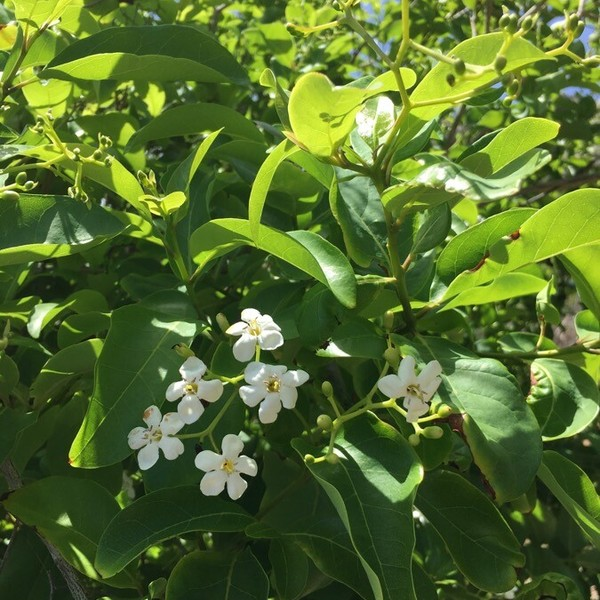obstacle: (64, 81, 549, 554)
